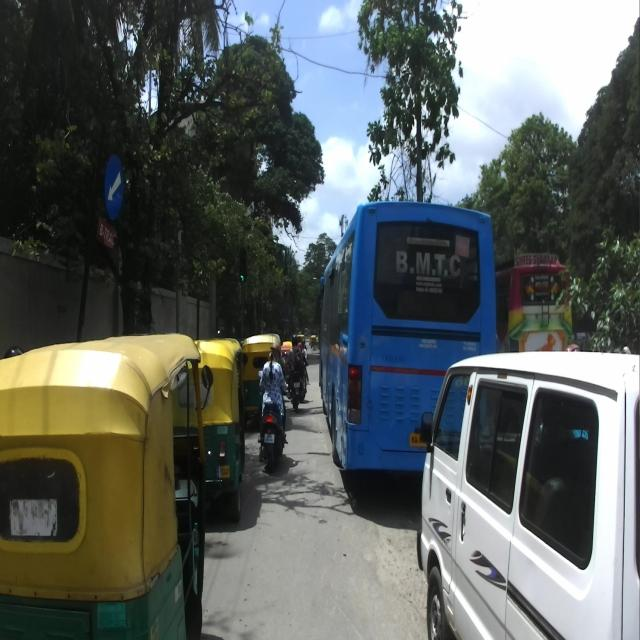Car_Maruti-Suzuki: (414, 347, 640, 637)
autorickshaw: (1, 334, 212, 638), (192, 337, 248, 522)
bus: (316, 199, 497, 478)
scooter: (258, 368, 288, 473)
